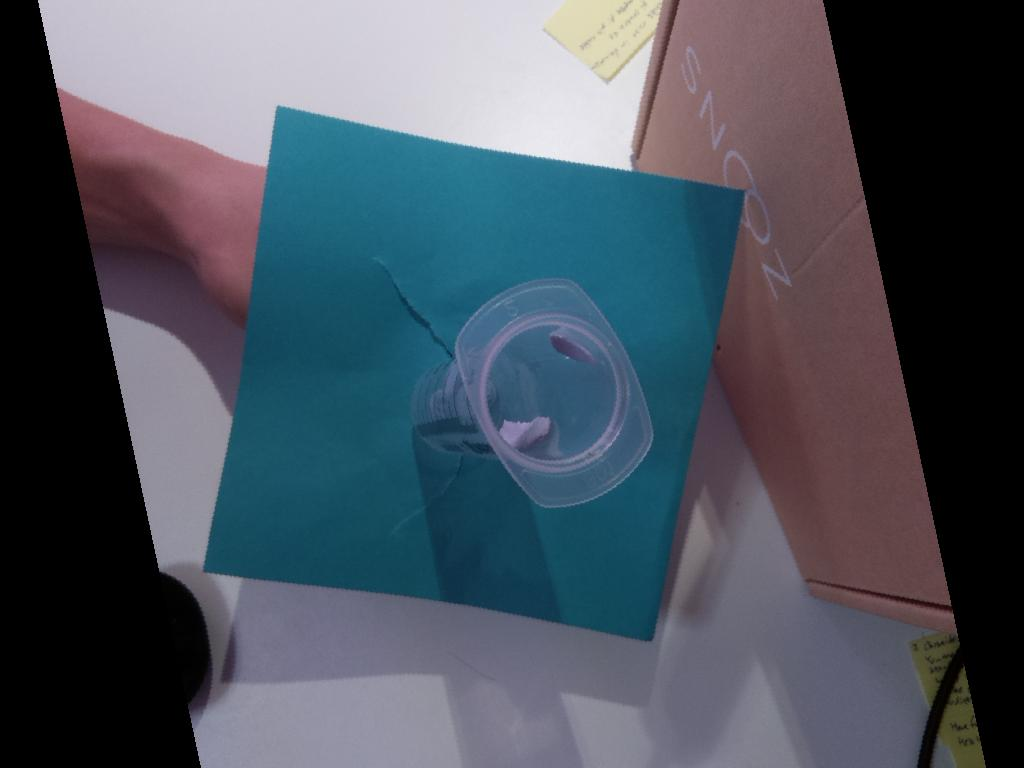dirty: (454, 276, 652, 508)
